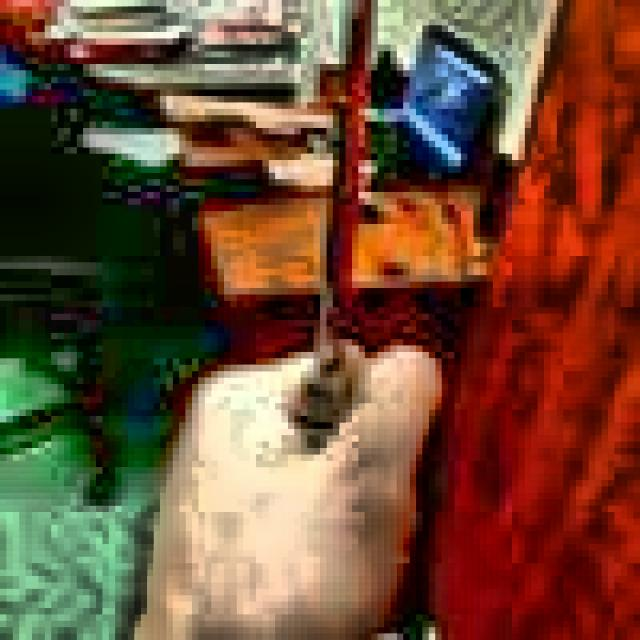knife: (291, 6, 378, 439)
